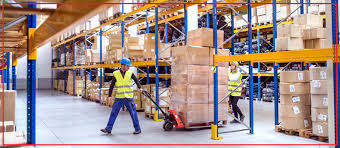Pallet Jack: (140, 89, 228, 132)
